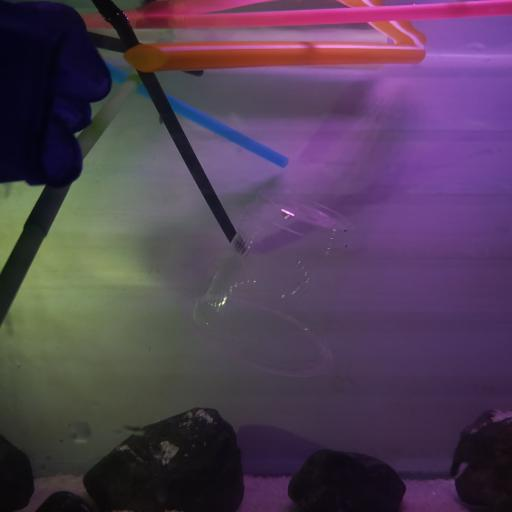glove: (2, 0, 116, 189)
plastic_cup: (181, 187, 356, 380)
plastic_straw: (92, 0, 237, 246), (106, 62, 289, 170), (82, 0, 512, 32), (1, 180, 72, 328), (122, 40, 427, 74), (87, 30, 205, 79), (77, 71, 140, 159)
